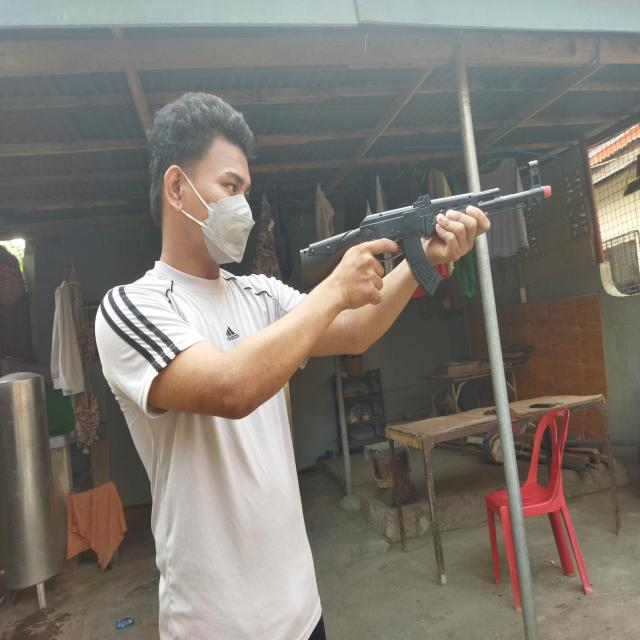rifle: (299, 160, 551, 296)
